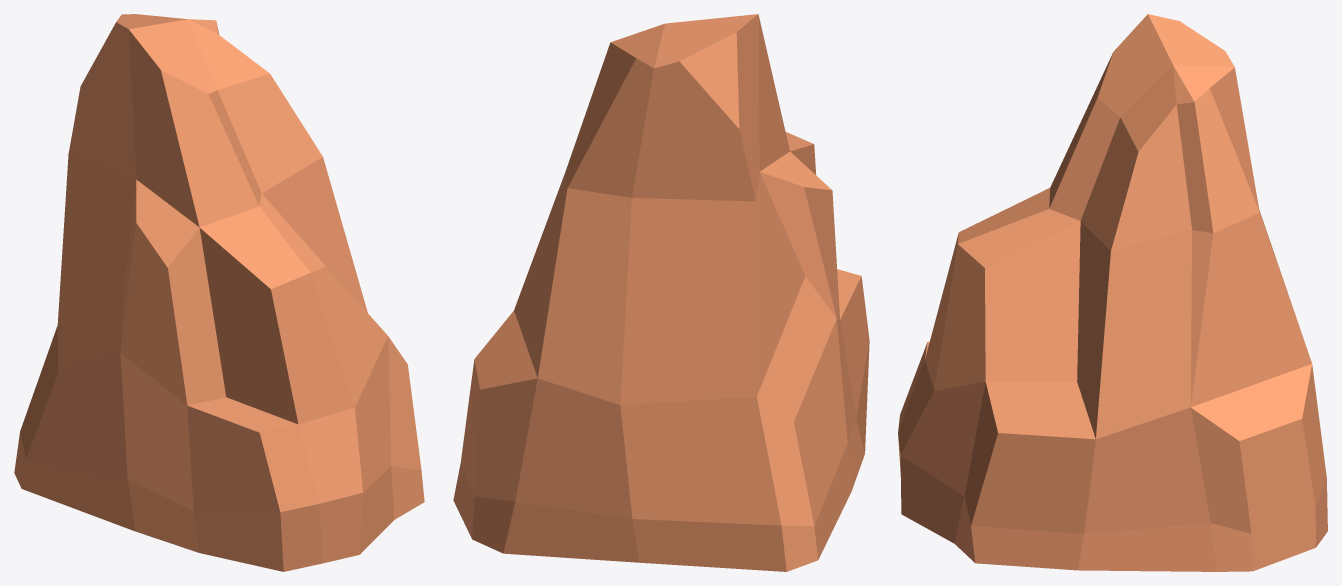
Rendered from Rock_2.fbx.
3 renders of one model, left to right at view 1: azimuth 30°, elevation 25°; view 2: azimuth 150°, elevation 25°; view 3: azimuth 270°, elevation 25°, orthographic. The views are drawn at different scales.
Parts seen in each view (by area): view 1: Rock_2; view 2: Rock_2; view 3: Rock_2.
Boxes of the visible parts, x1=… form: Rock_2: x1=14, y1=14, x2=424, y2=571; Rock_2: x1=453, y1=14, x2=869, y2=571; Rock_2: x1=898, y1=14, x2=1327, y2=571.
Bounding box in the file's own units: 124 × 177 × 153.
